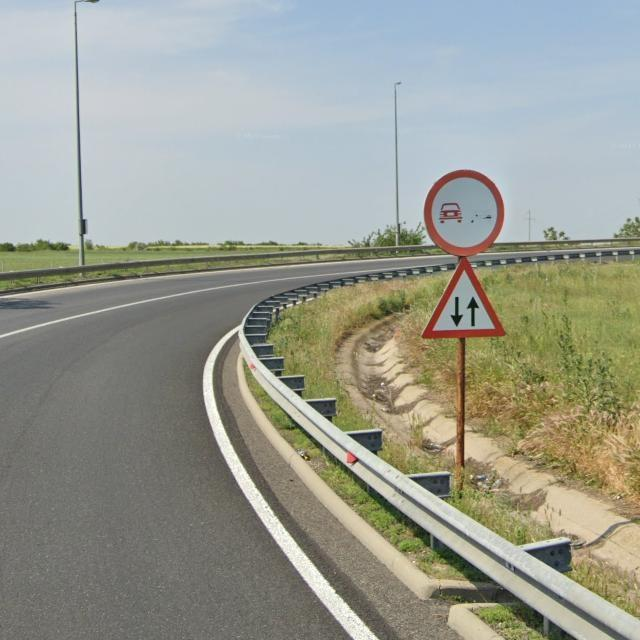forb_overtake: (423, 168, 506, 257)
